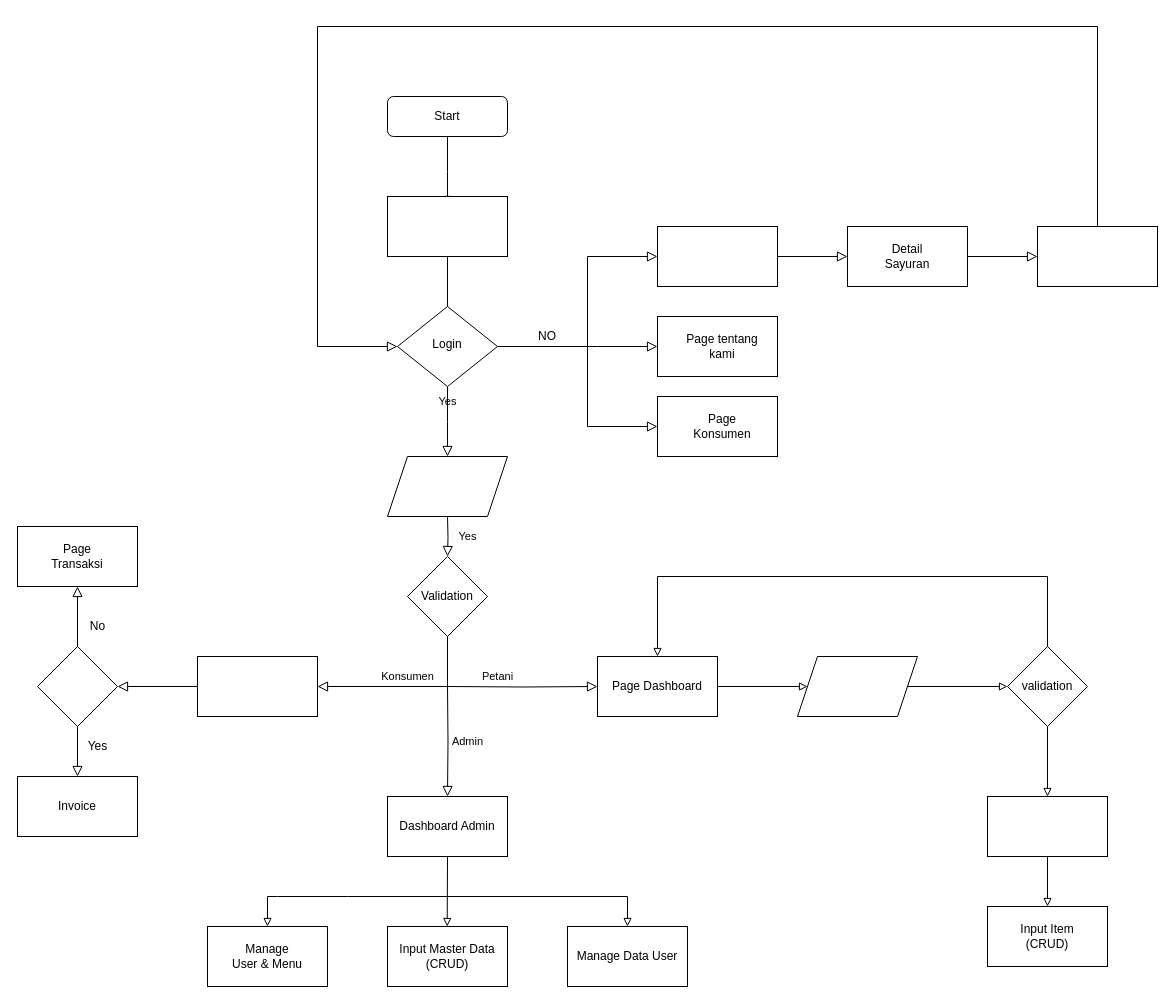
Some shapes in this 1175 by 1004 pixel diagram are drawn without their labels. Here are the shapes that lost their labels. From the top down, the box of each, then its label:
(386, 196, 508, 256): Home Page
(656, 226, 778, 286): Page Sayuran
(1036, 226, 1158, 286): Page Transaksi Sayuran
(386, 456, 508, 516): Read Role
(36, 646, 118, 726): Bayar
(196, 656, 318, 716): Next transaksi
(796, 656, 918, 716): Write Identity
(986, 796, 1108, 856): Page Dashboard All Fitur
